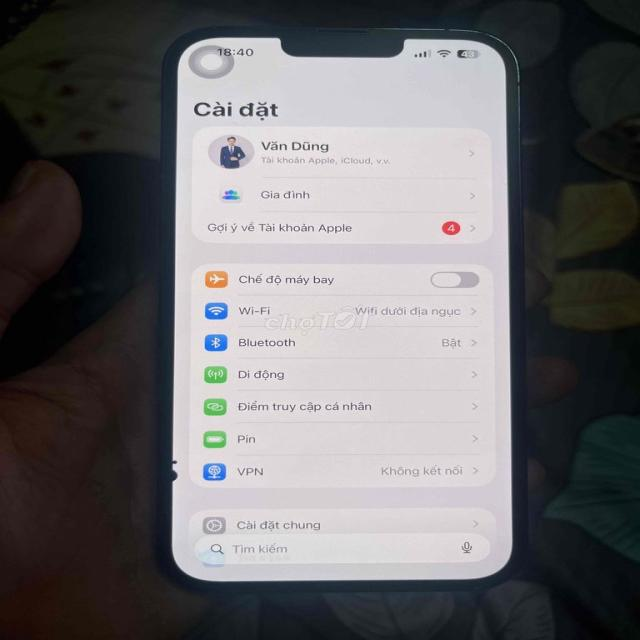gen_12_13: (160, 13, 528, 596)
